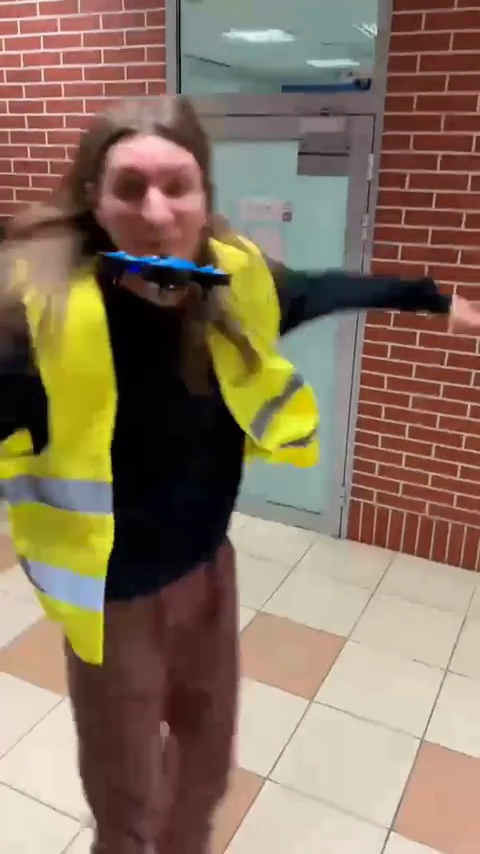drone: (101, 243, 239, 303)
vest: (0, 93, 318, 841)
